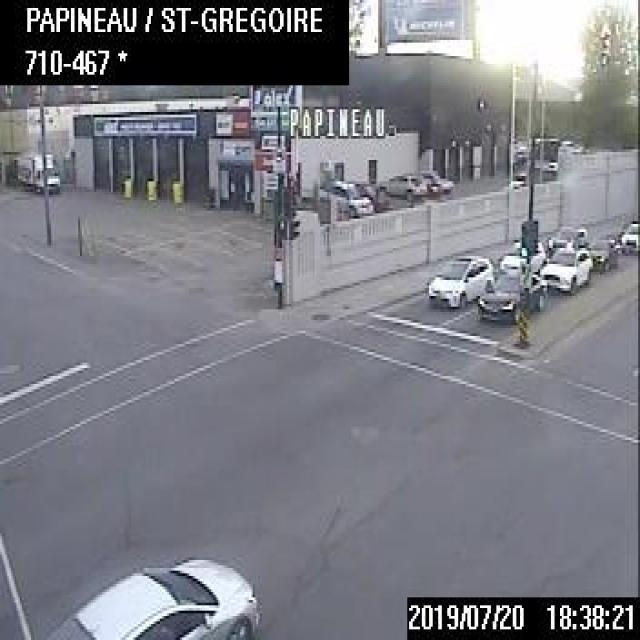vehicle: (42, 552, 258, 637), (423, 252, 492, 310), (474, 265, 546, 320), (536, 239, 593, 292), (316, 175, 374, 217), (10, 148, 61, 195), (494, 234, 545, 270), (376, 168, 428, 200), (589, 238, 619, 276), (419, 166, 453, 198), (546, 222, 586, 248), (618, 217, 638, 251)
